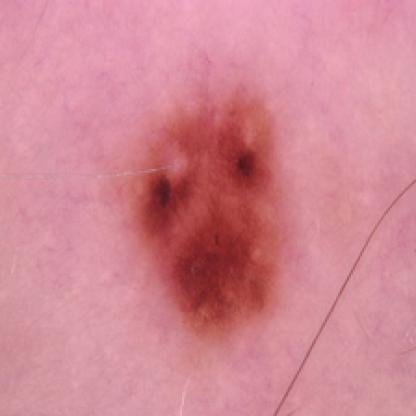benign: (128, 84, 288, 332)
